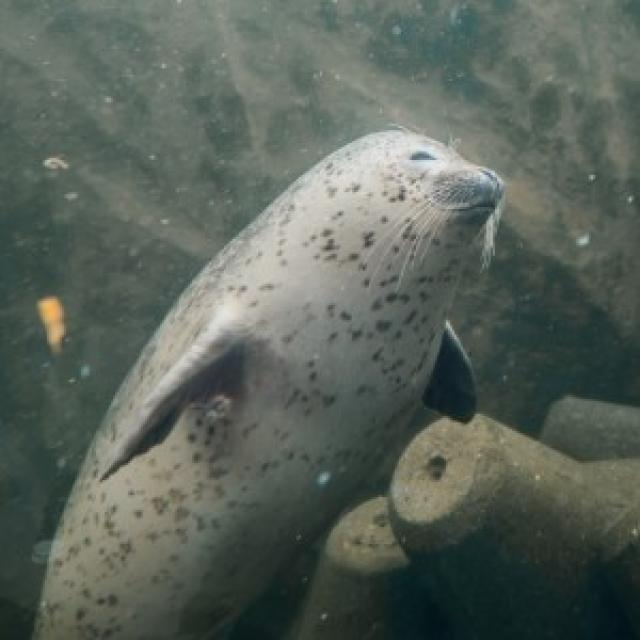Seal: (0, 132, 550, 639)
